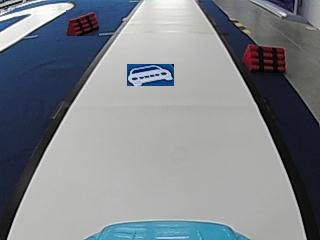bomb: (242, 44, 287, 71)
